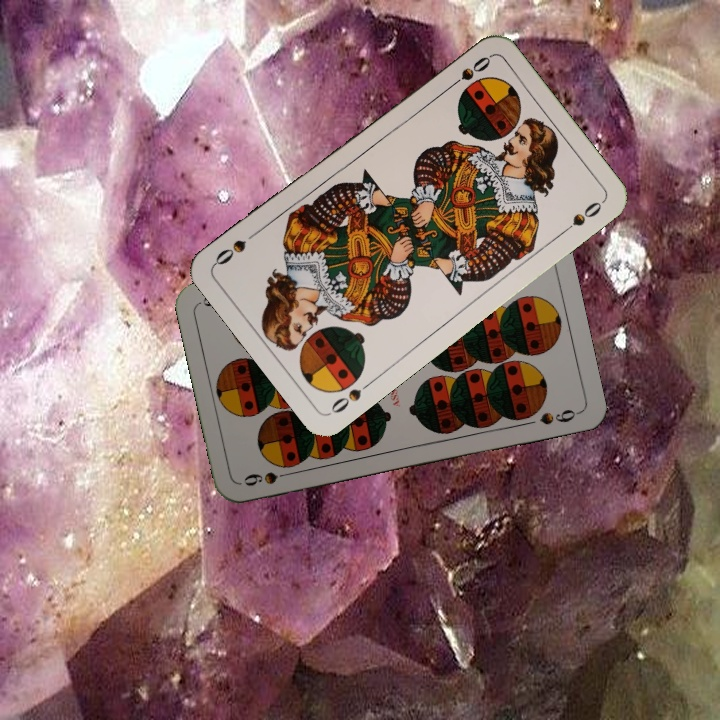S9: (239, 467, 298, 489)
SO: (442, 52, 494, 93), (326, 376, 376, 416)
